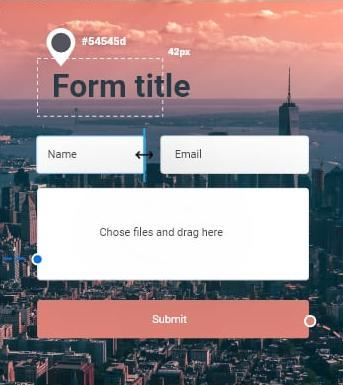button: (37, 301, 310, 337)
input: (162, 136, 311, 175), (37, 136, 144, 175)
